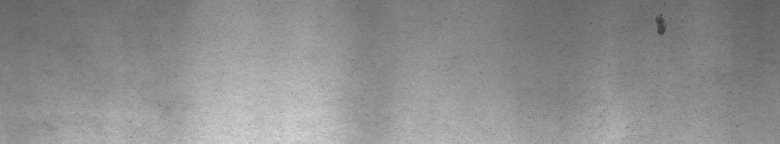fi: (651, 4, 672, 41)
